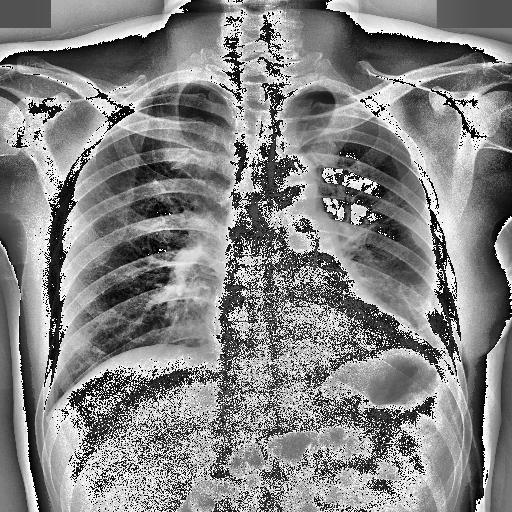0- Aortic enlargement: (268, 151, 320, 214)
11- Pleural thickening: (410, 231, 454, 369), (405, 224, 452, 350)
13- Pulmonary fibrosis: (386, 198, 412, 222)
3- Cardiomegaly: (204, 302, 439, 378), (201, 298, 427, 362)
7- Lung Opacity: (388, 272, 452, 360)
